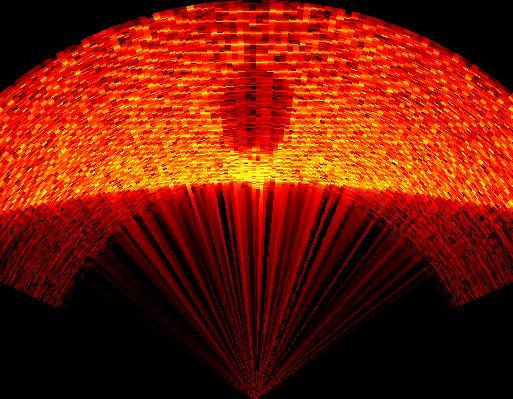box_crate: (219, 60, 299, 165)
